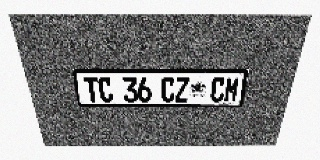3: (123, 77, 138, 102)
6: (137, 77, 151, 102)
C: (97, 77, 114, 102), (210, 77, 226, 102), (161, 77, 175, 102)
M: (223, 77, 241, 102)
T: (83, 77, 100, 102)
Z: (175, 77, 189, 102)
